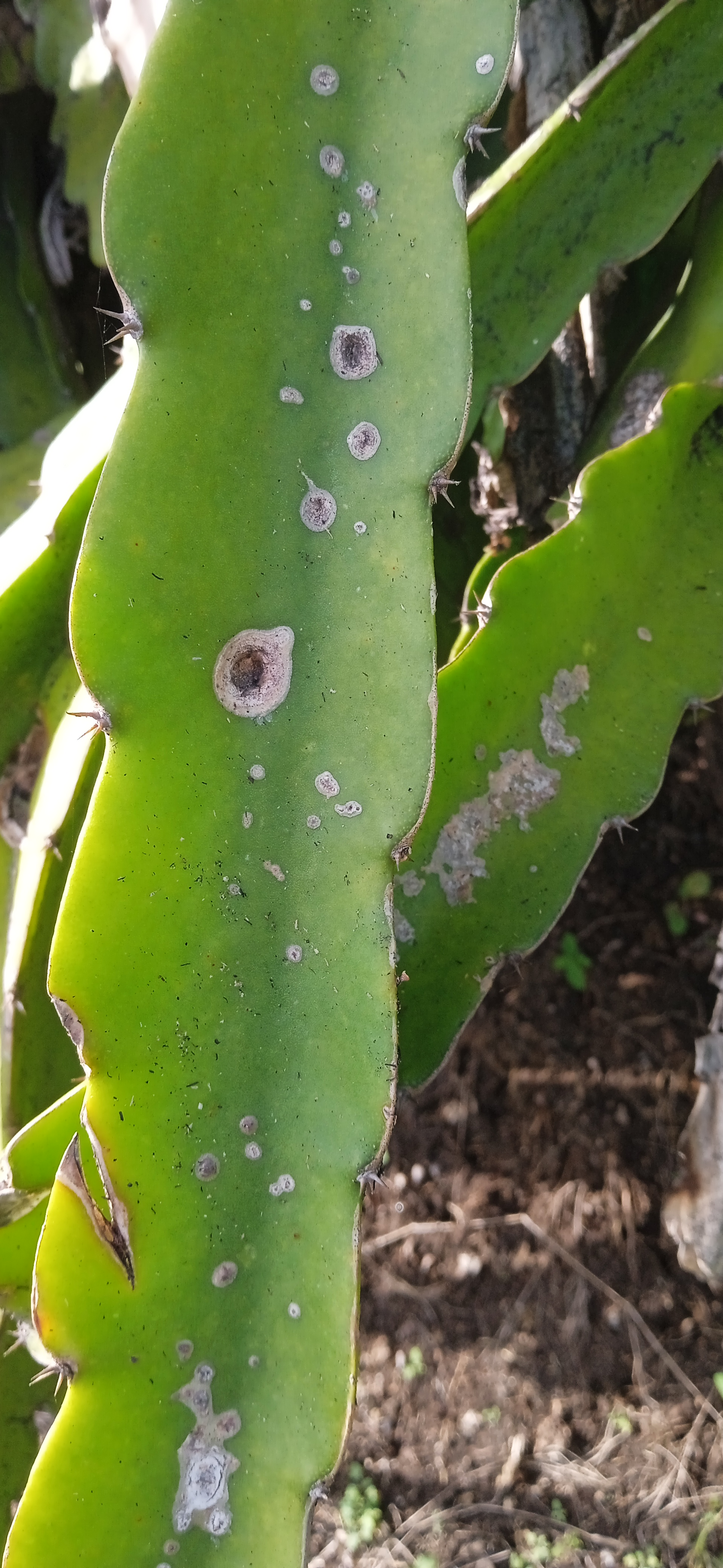stemcanker: (2, 4, 506, 1559), (382, 364, 723, 1086)
